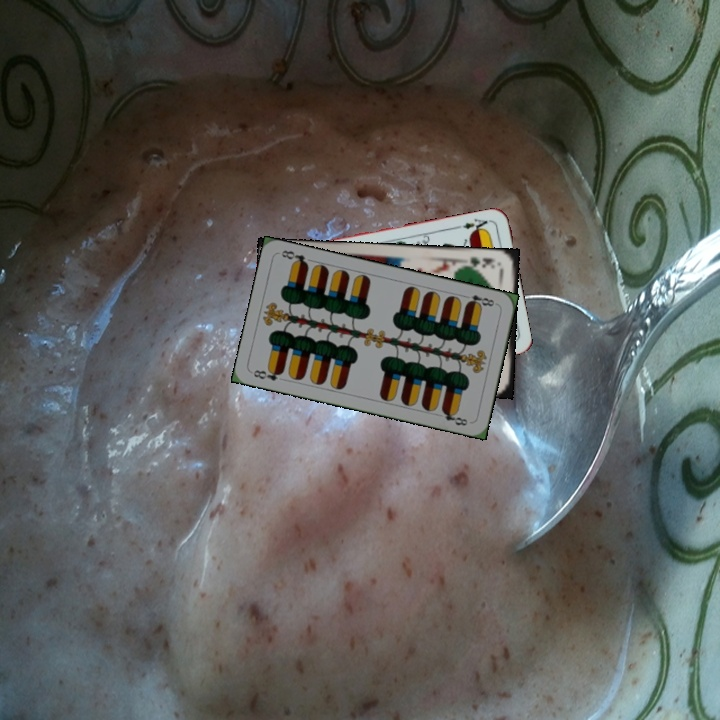E8: (459, 291, 499, 310), (249, 364, 286, 383)
EA: (459, 214, 494, 235)
GK: (461, 252, 498, 271)
